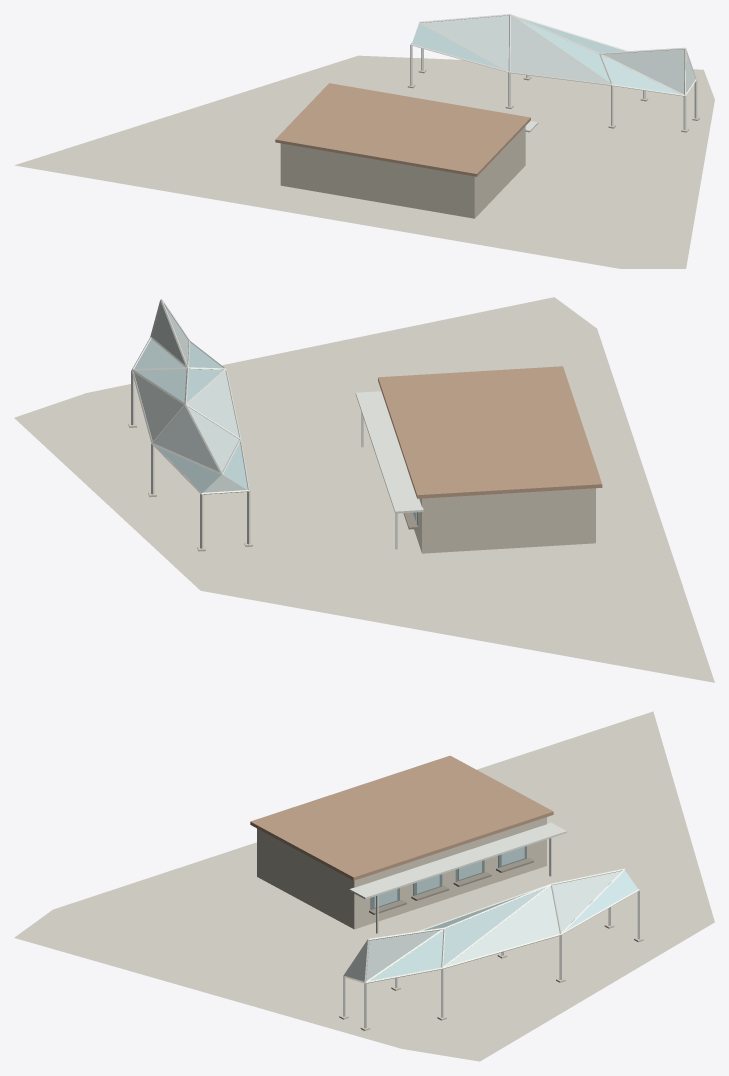
File: ticket-office.glb
The picture shows the model from 3 angles, top to bottom: view 1: azimuth 30°, elevation 25°; view 2: azimuth 150°, elevation 25°; view 3: azimuth 270°, elevation 25°; orthographic projection. The views are drawn at different scales.
Parts seen in each view (by area): view 1: Ticket office and angular crystal glass entrance canopy; view 2: Ticket office and angular crystal glass entrance canopy; view 3: Ticket office and angular crystal glass entrance canopy.
Part boxes in pixels (left/top/right/bottom): Ticket office and angular crystal glass entrance canopy: left=14, top=14, right=714, bottom=268; Ticket office and angular crystal glass entrance canopy: left=14, top=297, right=714, bottom=682; Ticket office and angular crystal glass entrance canopy: left=14, top=711, right=714, bottom=1061.
Bounding box in the file's own units: 57.65 × 6.54 × 48.76.
